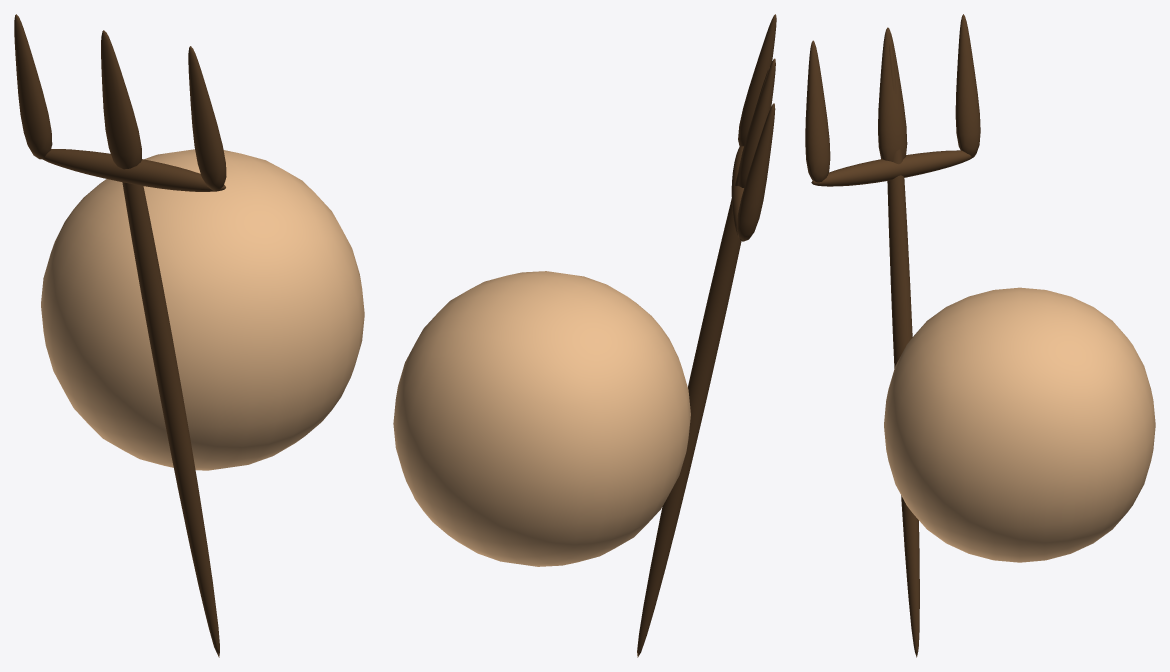
File: pitch.fbx
3 views of the same model, side by side, from view 1: azimuth 30°, elevation 25°; view 2: azimuth 150°, elevation 25°; view 3: azimuth 270°, elevation 25° (orthographic). The views are drawn at different scales.
Parts seen in each view (by area): view 1: Cube; view 2: Cube; view 3: Cube.
Boxes of the visible parts, x1,y1,x2,y2 form: Cube: [14, 14, 364, 657]; Cube: [393, 14, 776, 657]; Cube: [805, 14, 1155, 657].
Bounding box in the file's own units: 392 × 709 × 388.
